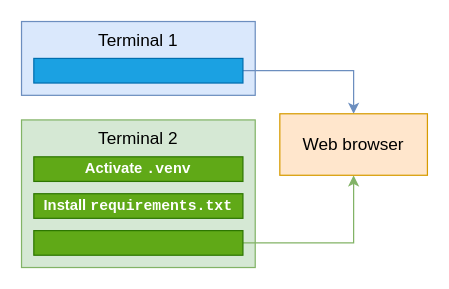
Some shapes in this 449 by 289 pixel diagram are drawn without their labels. Each missing label, with the centre of its shape:
"jupyter lab" goes at pixel 138 70.
"Link .venv" goes at pixel 138 242.
